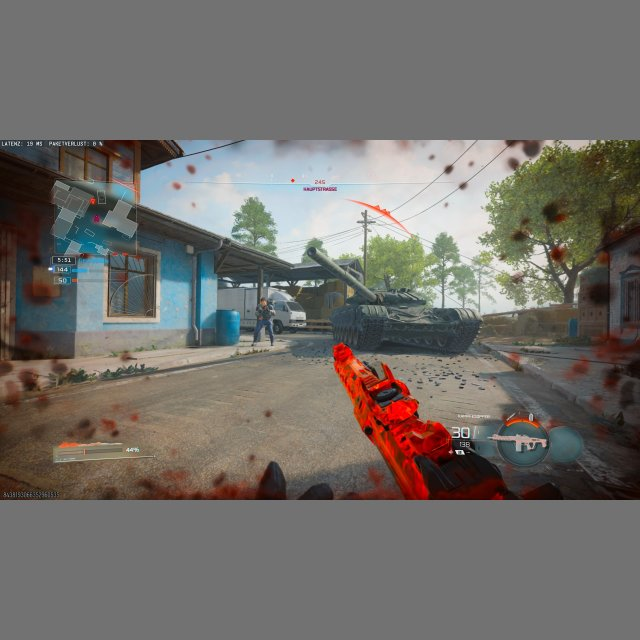player: (251, 298, 275, 347)
